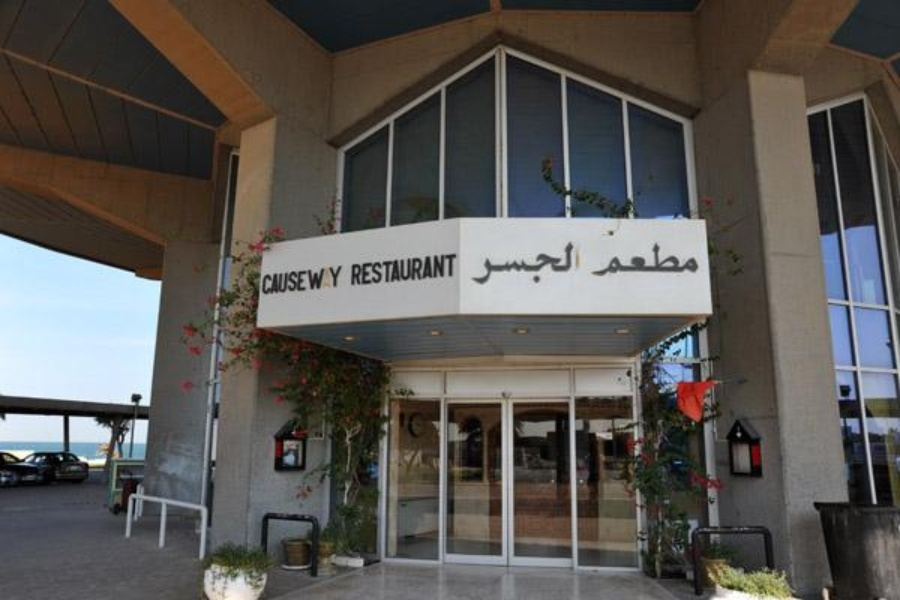text: (481, 242, 496, 286), (497, 242, 512, 286), (513, 242, 528, 286), (529, 242, 544, 286), (545, 242, 560, 286), (561, 242, 575, 286), (593, 242, 608, 278), (609, 242, 624, 278), (625, 242, 640, 278), (641, 242, 656, 278), (657, 242, 672, 278), (673, 242, 688, 278), (353, 253, 368, 287), (369, 253, 384, 287), (385, 253, 400, 287), (401, 253, 416, 287), (417, 253, 432, 287), (433, 253, 448, 287), (273, 268, 288, 295), (289, 268, 304, 295), (305, 268, 320, 295), (689, 242, 700, 278), (449, 253, 458, 287), (263, 268, 272, 295), (328, 265, 336, 290), (337, 265, 344, 290), (321, 268, 326, 295), (589, 242, 592, 278), (349, 253, 352, 287), (478, 242, 480, 286)
